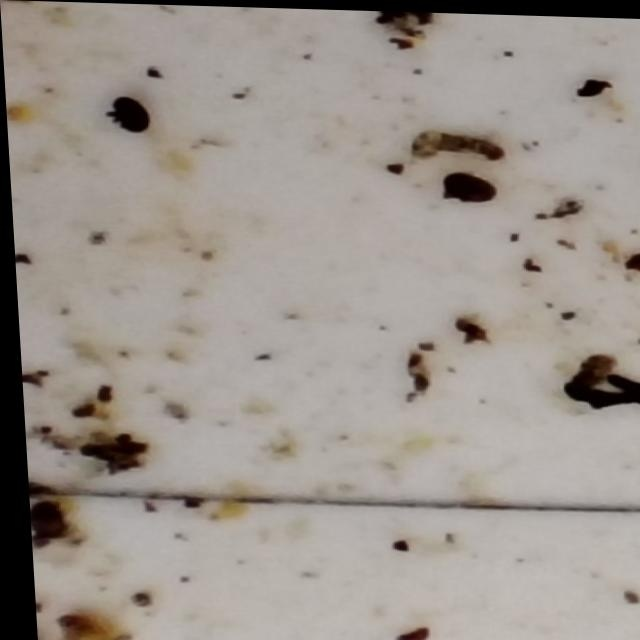varroa: (439, 171, 499, 206), (24, 498, 62, 543), (111, 95, 150, 136)
